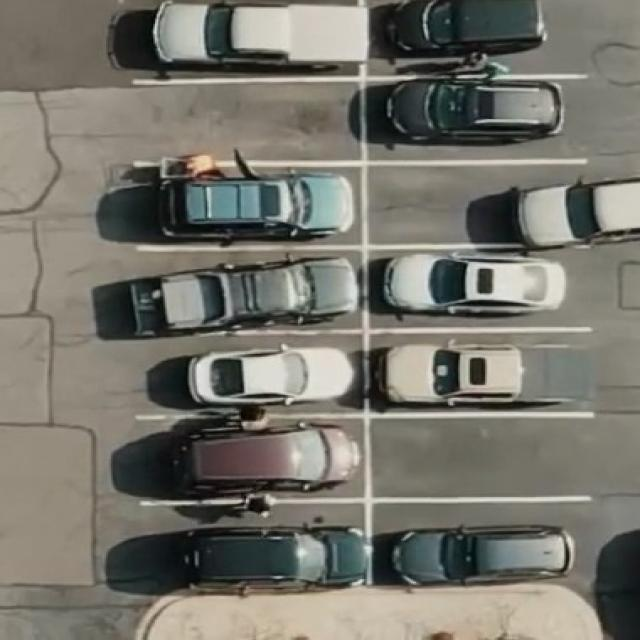space-empty: (127, 72, 360, 166), (367, 414, 598, 502)
space-occupied: (110, 242, 366, 340), (111, 500, 371, 595), (362, 157, 615, 254), (128, 412, 369, 506), (367, 323, 598, 416), (360, 68, 583, 161), (367, 497, 585, 588), (140, 157, 365, 245), (122, 1, 366, 80), (112, 342, 370, 416), (364, 242, 579, 327), (369, 0, 549, 68)
